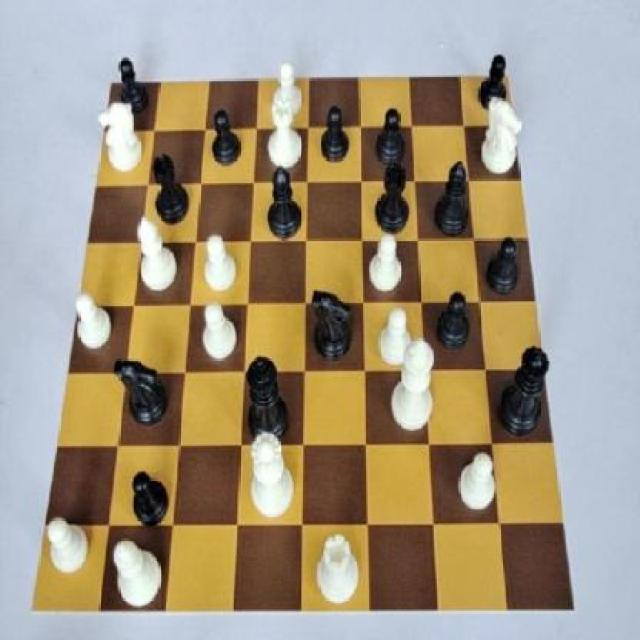bishop: (260, 168, 306, 248), (429, 154, 472, 239)
black-bishop: (237, 342, 292, 448)
black-king: (112, 348, 178, 438), (308, 280, 358, 372)
black-knight: (126, 463, 176, 537), (112, 48, 156, 132), (472, 48, 515, 125), (434, 286, 475, 362), (482, 223, 523, 295), (204, 102, 243, 174), (372, 99, 410, 172), (320, 94, 352, 178)
black-pawn: (495, 340, 553, 446)
black-queen: (146, 151, 196, 227), (369, 158, 413, 238)
black-rook: (109, 528, 164, 614), (131, 210, 178, 302)
white-bishop: (389, 331, 438, 441)
white-king: (477, 91, 531, 183), (97, 100, 150, 177)
white-knight: (41, 511, 94, 590), (192, 228, 250, 298), (454, 440, 498, 522), (365, 224, 412, 300), (72, 283, 117, 362), (198, 288, 240, 363), (271, 54, 310, 128), (376, 303, 414, 375)
white-pawn: (248, 423, 298, 524)
white-queen: (311, 529, 368, 610), (264, 98, 308, 180)
